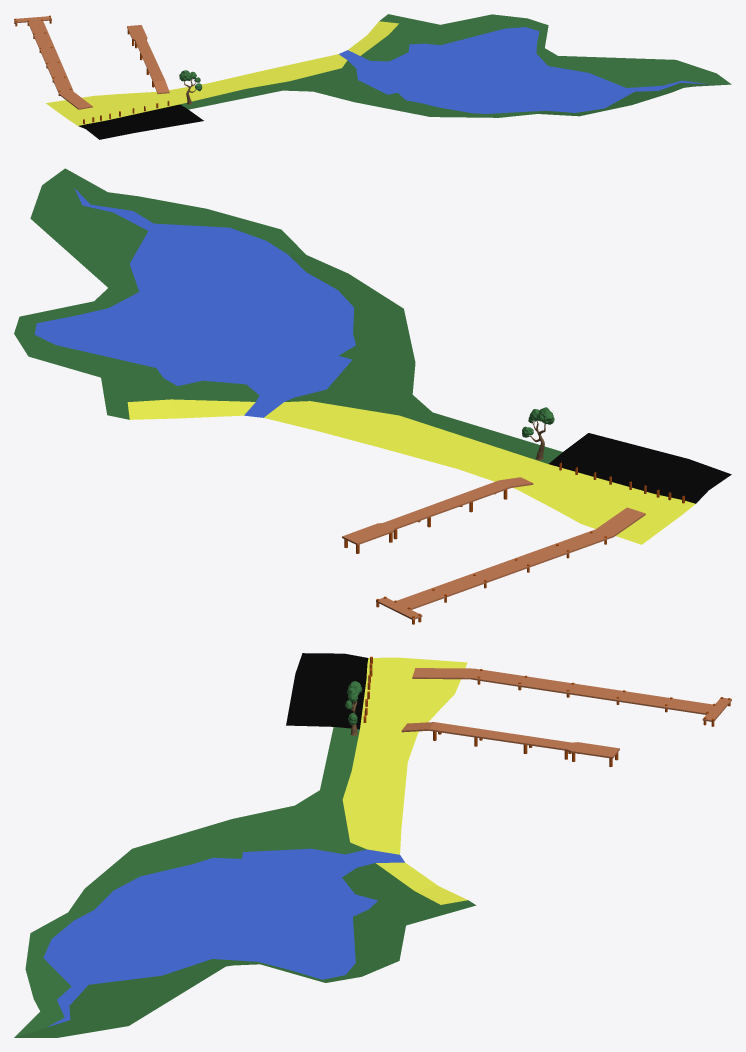
Rendered from lakeclaire.glb.
3 views of the same model, one above another, from view 1: azimuth 30°, elevation 25°; view 2: azimuth 150°, elevation 25°; view 3: azimuth 270°, elevation 25° (orthographic). The views are drawn at different scales.
Visible parts, largest first — view 1: Pine_2__Plane.001; view 2: Pine_2__Plane.001; view 3: Pine_2__Plane.001.
Boxes of the visible parts, x1,y1,x2,y2 form: Pine_2__Plane.001: [14, 14, 731, 139]; Pine_2__Plane.001: [14, 168, 731, 624]; Pine_2__Plane.001: [14, 653, 731, 1037].
Size of the model in its own units: 0.6052 by 0.0404 by 0.4823.
